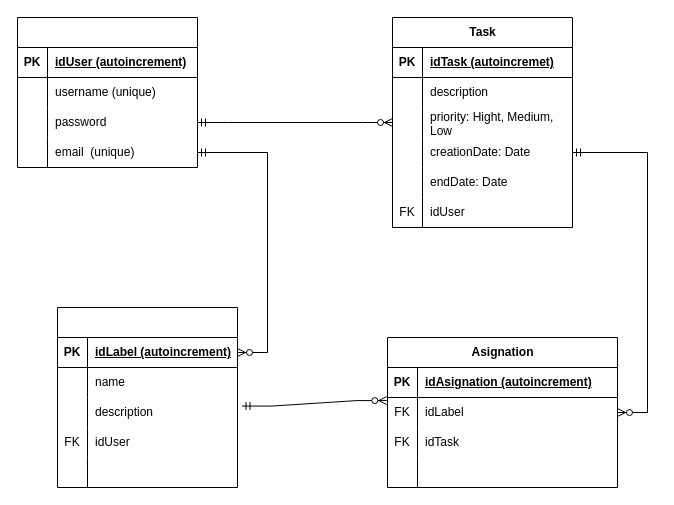
Image size: 674x505. Some labels were removed from this diagram. Each missing label, with the box of its shape:
CategoryLabel: (56, 306, 238, 488)
Usuario: (16, 16, 198, 168)
